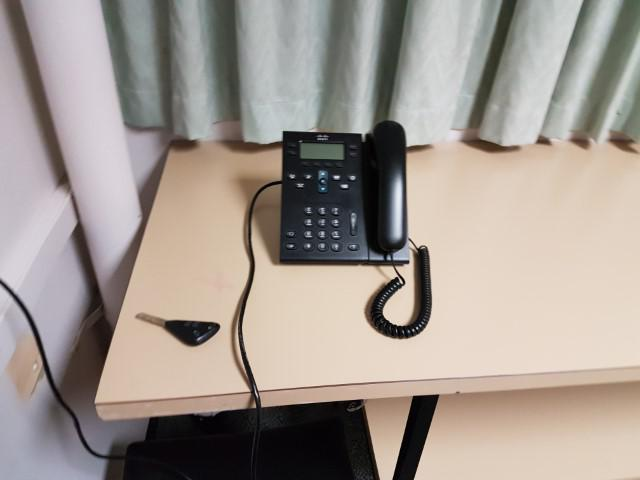key: (136, 313, 220, 346)
